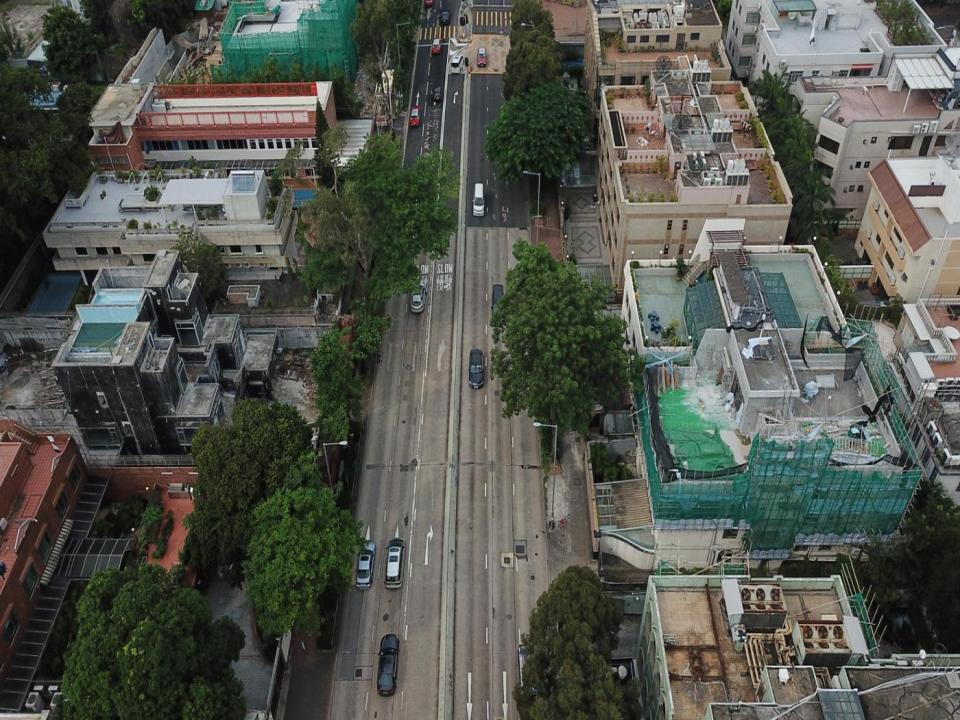car: (378, 635, 399, 699), (383, 536, 405, 590), (356, 541, 374, 588), (468, 348, 485, 390), (411, 282, 428, 312), (409, 105, 420, 127), (477, 46, 488, 68), (451, 53, 463, 73), (432, 80, 441, 100), (439, 9, 450, 25), (432, 36, 440, 51), (424, 0, 433, 7)
van: (492, 284, 504, 324), (473, 183, 484, 216)
